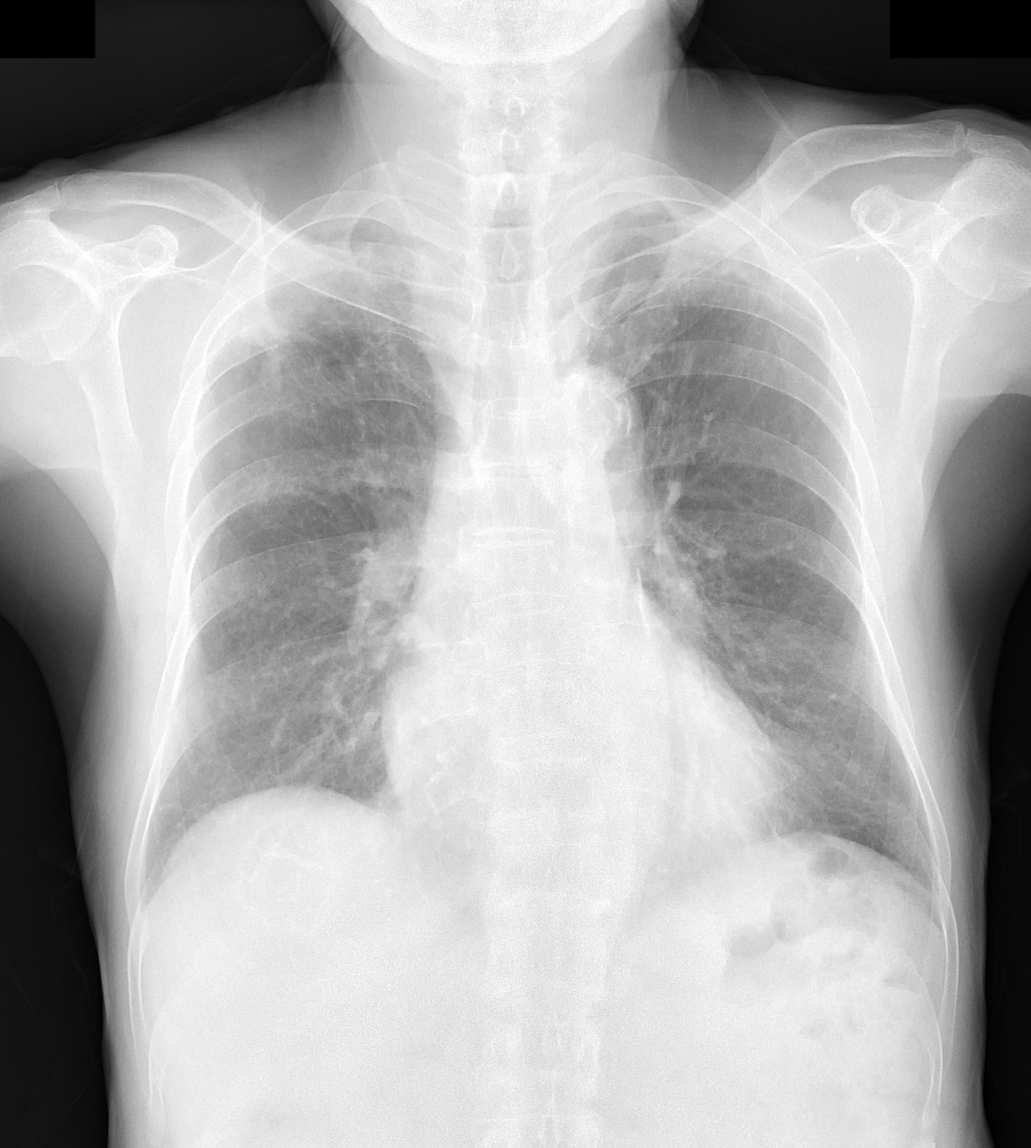Aortic enlargement: (522, 360, 645, 526)
Pleural thickening: (199, 252, 276, 353), (681, 188, 786, 255)
Pulmonary fibrosis: (691, 260, 798, 302)
